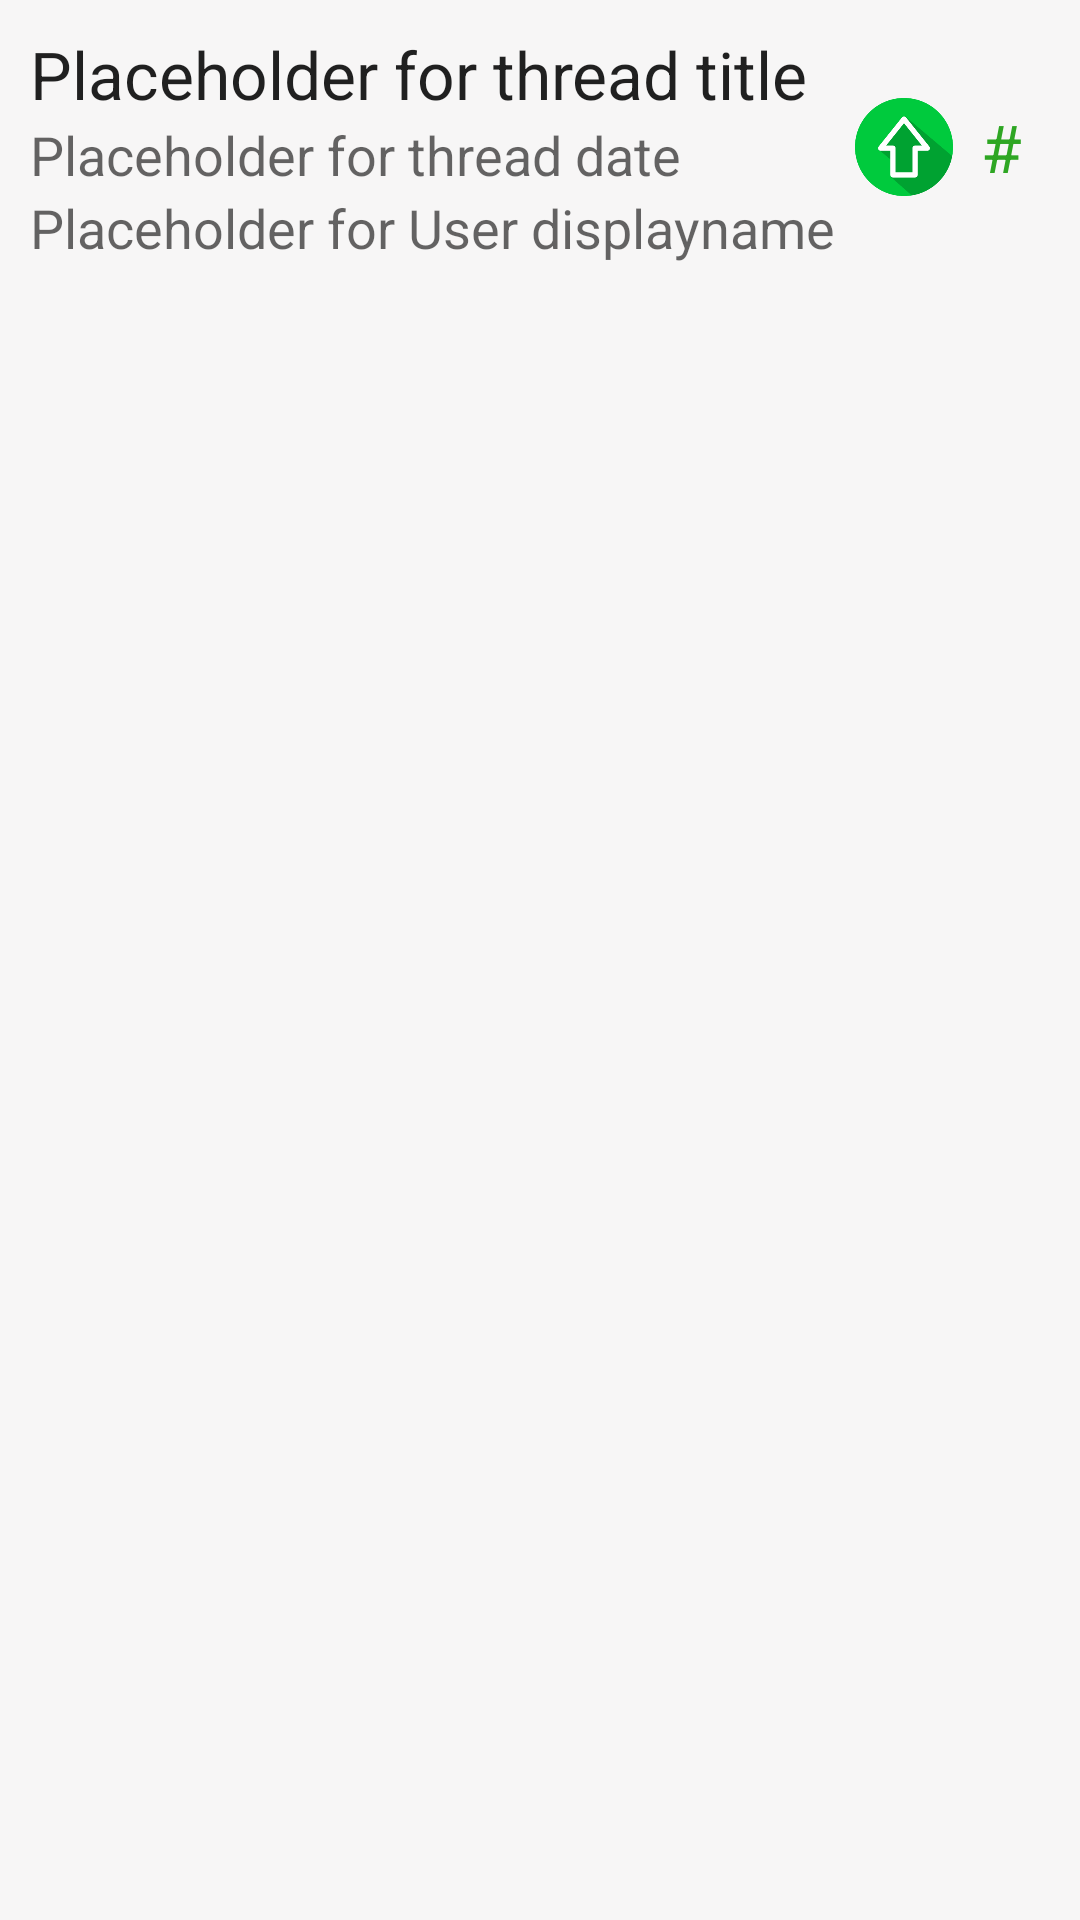

Locate icon controls on the screen. Image size 1080 x 1920, boxes as (x1, y1, x2, y2).
arrow: (855, 98, 953, 196)
